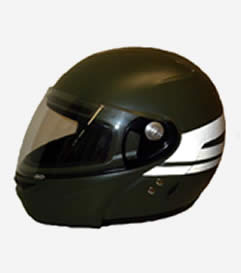helmet: (29, 49, 220, 212)
